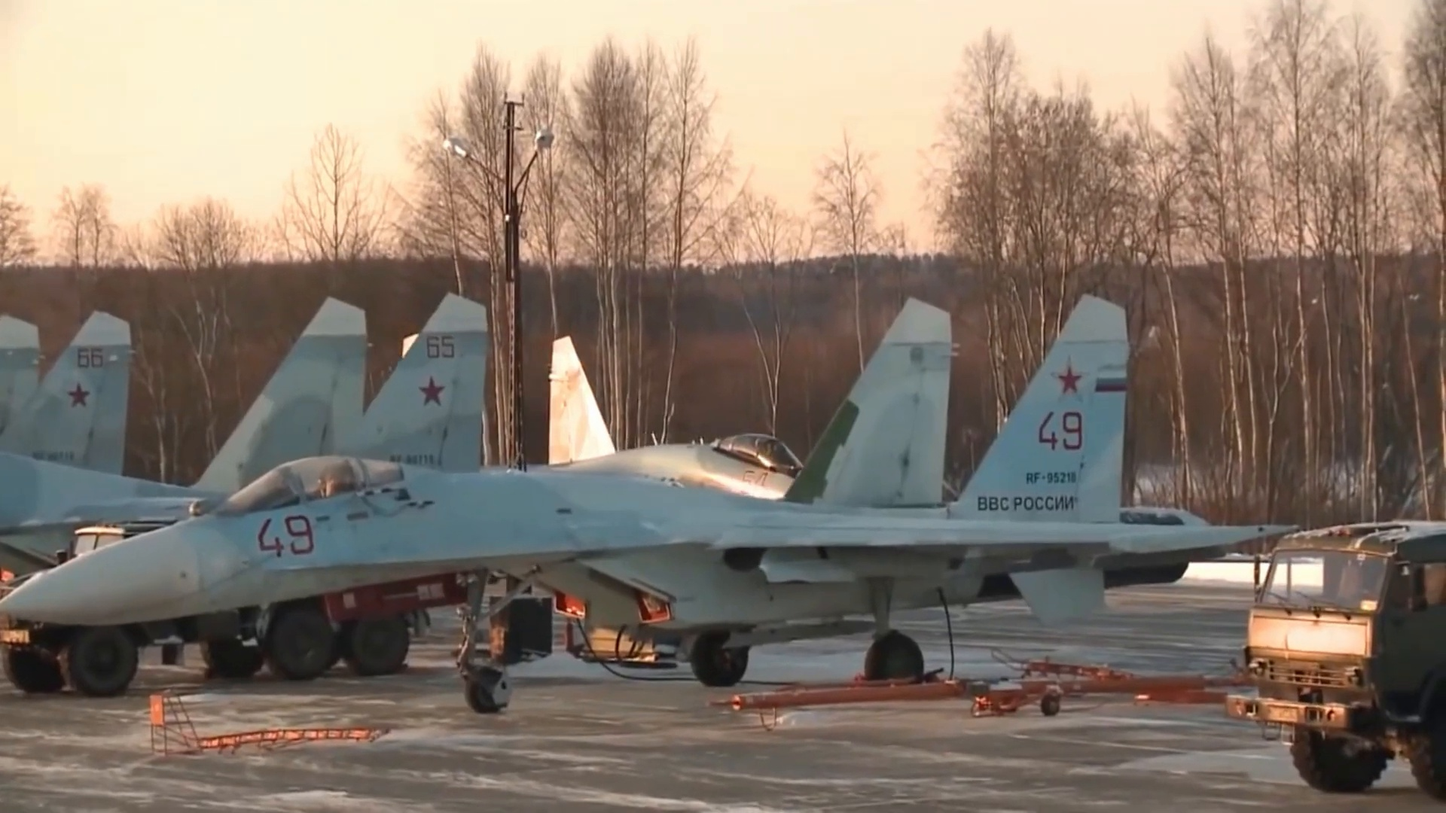Su35: (0, 295, 1298, 712)
